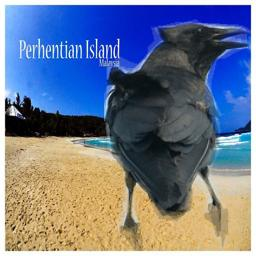Crow: (104, 16, 251, 251)
